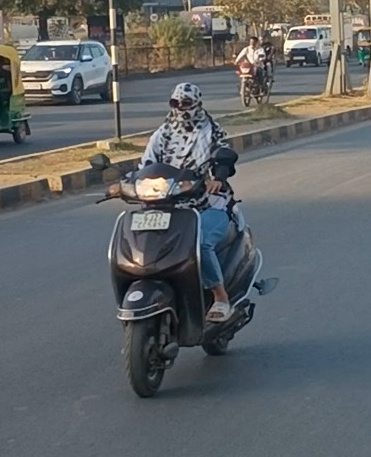BikeWithRider: (82, 78, 283, 408), (229, 32, 282, 107)
NoHelmet: (164, 79, 212, 130)
